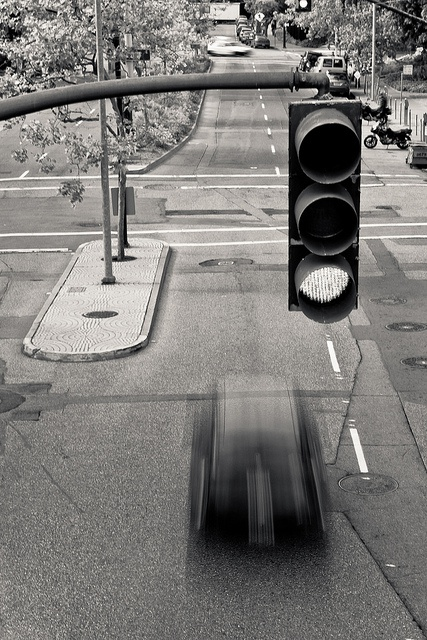non-vehicle: (365, 122, 411, 151), (361, 103, 392, 125)
